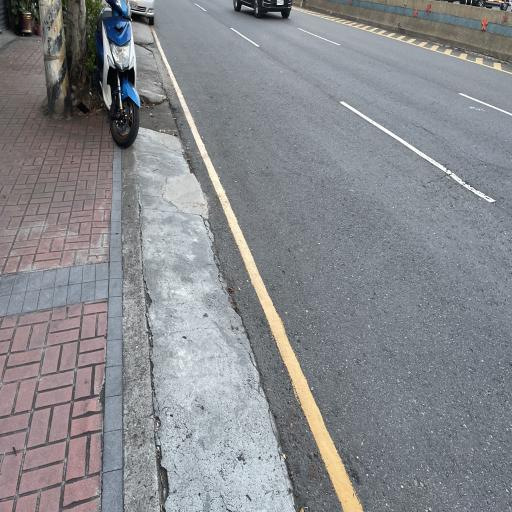yellowline: (147, 23, 367, 507)
